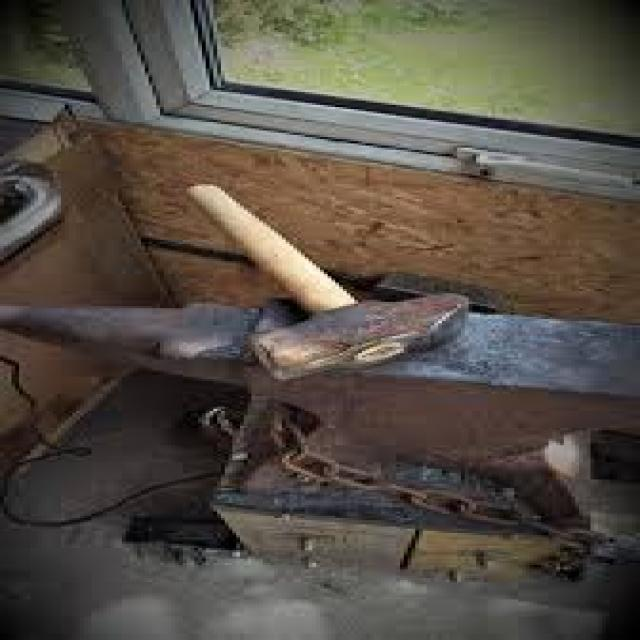hammer: (147, 182, 486, 386)
